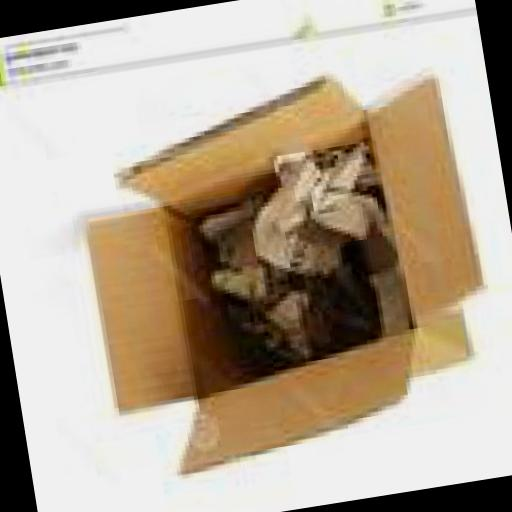cardboard: (64, 60, 502, 492)
